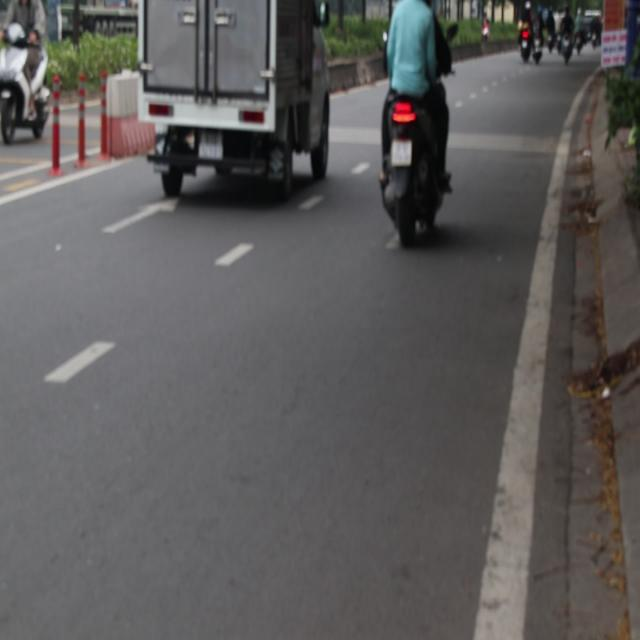motorbike: (379, 98, 444, 250), (0, 28, 49, 142), (529, 19, 540, 70), (564, 28, 578, 67), (519, 20, 531, 63), (586, 18, 601, 52), (546, 20, 558, 60)
truck: (135, 1, 337, 205)
